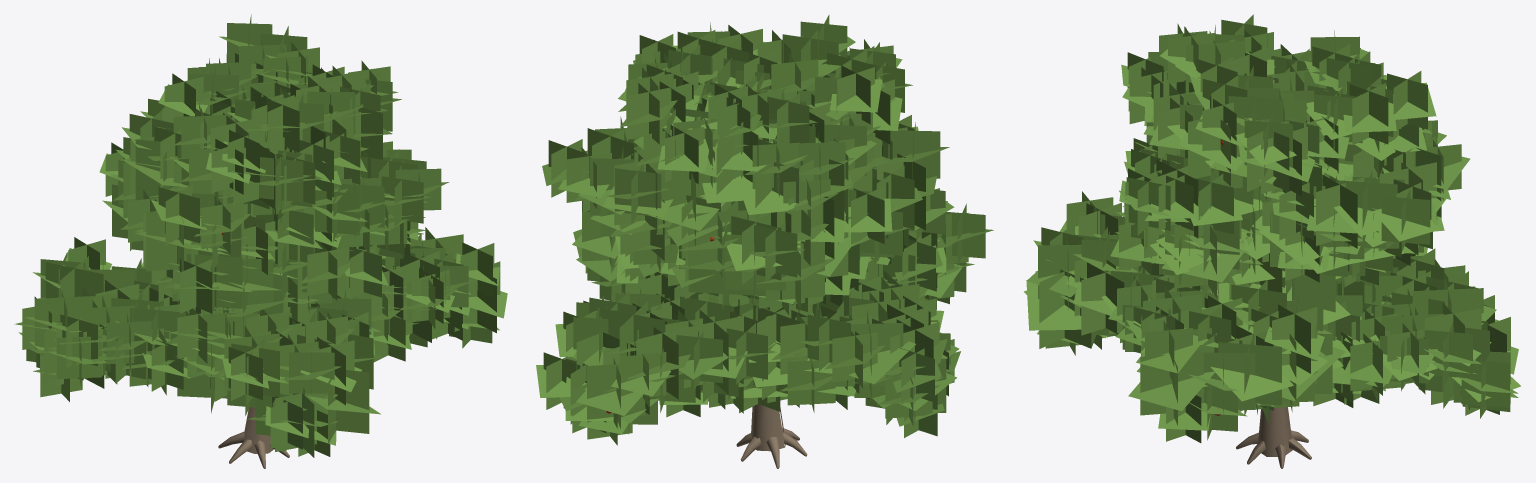
Rendered from pommier_2_jeu.glb.
3 views of the same model, side by side, from view 1: azimuth 30°, elevation 25°; view 2: azimuth 150°, elevation 25°; view 3: azimuth 270°, elevation 25° (orthographic). The views are drawn at different scales.
Parts seen in each view (by area): view 1: Pommier_T2_Leger; view 2: Pommier_T2_Leger; view 3: Pommier_T2_Leger.
Boxes of the visible parts, <box> form: Pommier_T2_Leger: <box>14,14,507,468</box>; Pommier_T2_Leger: <box>536,14,993,468</box>; Pommier_T2_Leger: <box>1024,14,1520,468</box>.
Bounding box in the file's own units: 6.25 × 5.53 × 6.06.
